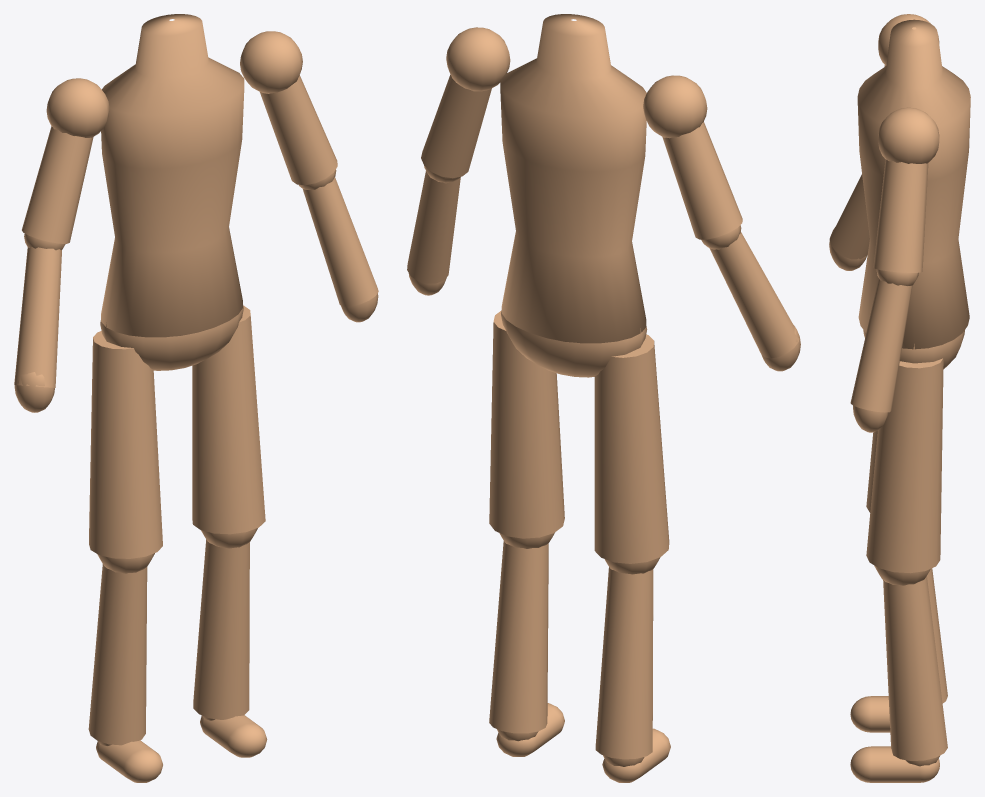
File: slender.glb
The picture shows the model from 3 angles, left to right: view 1: azimuth 30°, elevation 25°; view 2: azimuth 150°, elevation 25°; view 3: azimuth 270°, elevation 25°; orthographic projection. The views are drawn at different scales.
Visible parts, largest first — view 1: torso_sculpt, thigh_r, thigh_l, calf_r, calf_l, upper_arm_r, forearm_r, forearm_l, upper_arm_l, pelvis, shoulder_l, shoulder_r (+5 smaller); view 2: torso_sculpt, thigh_r, thigh_l, calf_l, calf_r, upper_arm_r, forearm_r, upper_arm_l, forearm_l, pelvis, shoulder_l, shoulder_r (+2 smaller); view 3: torso_sculpt, thigh_l, calf_l, upper_arm_l, forearm_l, shoulder_l, foot_l, forearm_r, foot_r, pelvis, calf_r, shoulder_r (+5 smaller).
Part boxes in pixels (left/top/right/bottom): torso_sculpt: left=101, top=14, right=244, bottom=337; thigh_r: left=89, top=331, right=162, bottom=558; thigh_l: left=192, top=305, right=265, bottom=534; calf_r: left=88, top=564, right=147, bottom=745; calf_l: left=193, top=539, right=249, bottom=719; upper_arm_r: left=22, top=126, right=93, bottom=243; forearm_r: left=14, top=247, right=61, bottom=387; forearm_l: left=303, top=177, right=378, bottom=306; upper_arm_l: left=260, top=75, right=337, bottom=185; pelvis: left=100, top=305, right=243, bottom=370; shoulder_l: left=240, top=31, right=302, bottom=93; shoulder_r: left=46, top=78, right=109, bottom=137; torso_sculpt: left=500, top=14, right=646, bottom=343; thigh_r: left=594, top=334, right=669, bottom=563; thigh_l: left=489, top=311, right=564, bottom=538; calf_l: left=489, top=541, right=548, bottom=733; calf_r: left=595, top=567, right=653, bottom=759; upper_arm_r: left=662, top=121, right=742, bottom=239; forearm_r: left=709, top=231, right=799, bottom=358; upper_arm_l: left=421, top=74, right=491, bottom=178; forearm_l: left=407, top=171, right=460, bottom=283; pelvis: left=501, top=310, right=647, bottom=377; shoulder_l: left=446, top=27, right=510, bottom=91; shoulder_r: left=643, top=75, right=707, bottom=138; torso_sculpt: left=857, top=19, right=970, bottom=349; thigh_l: left=866, top=358, right=943, bottom=573; calf_l: left=883, top=576, right=947, bottom=760; upper_arm_l: left=873, top=159, right=928, bottom=272; forearm_l: left=850, top=278, right=912, bottom=412; shoulder_l: left=878, top=107, right=939, bottom=163; foot_l: left=850, top=746, right=939, bottom=782; forearm_r: left=829, top=174, right=869, bottom=259; foot_r: left=850, top=696, right=890, bottom=732; pelvis: left=863, top=330, right=964, bottom=369; calf_r: left=927, top=568, right=947, bottom=703; shoulder_r: left=878, top=14, right=939, bottom=65.
Size of the model in its own units: 0.7841 by 1.48 by 0.2622.
